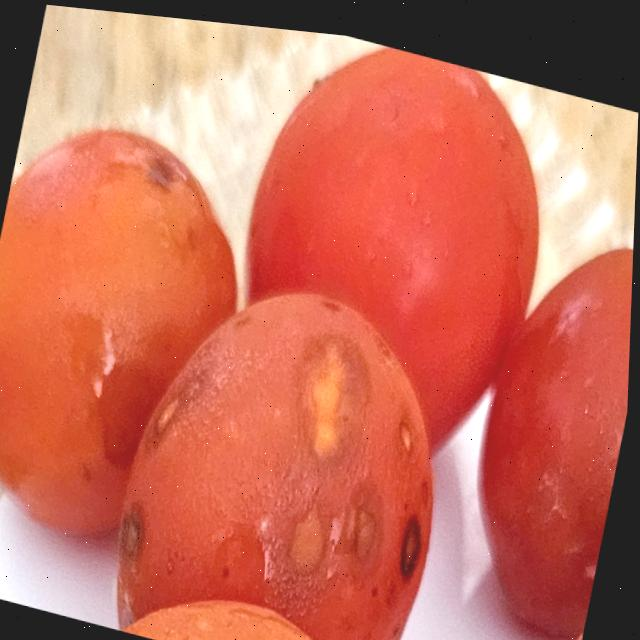rot_lvl1: (288, 328, 381, 474), (282, 496, 339, 592), (334, 496, 386, 571), (114, 500, 155, 577), (393, 514, 430, 585), (152, 390, 186, 443), (143, 148, 178, 193), (393, 411, 422, 463), (181, 376, 210, 415)
